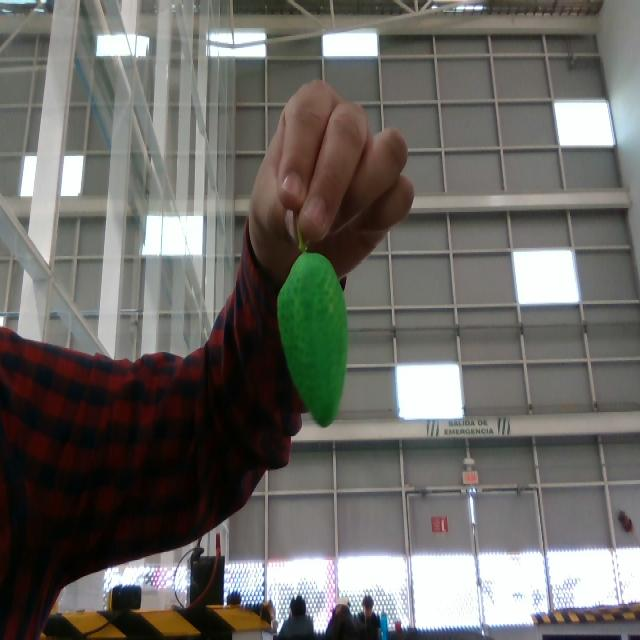verde: (278, 251, 352, 430)
